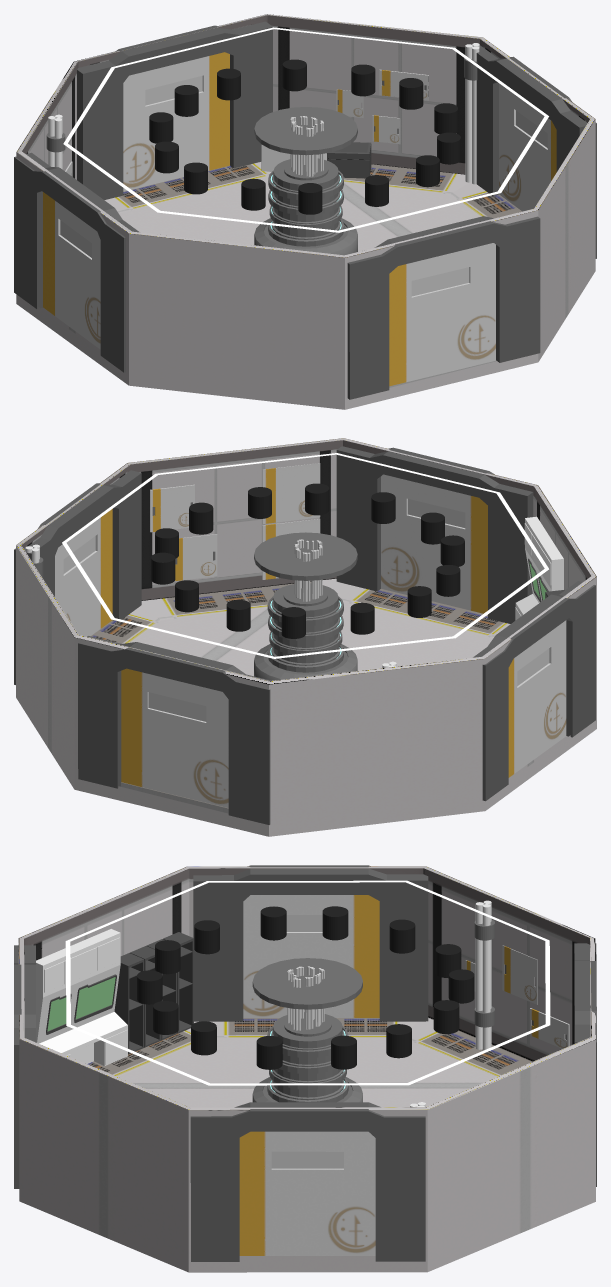
File: Sleepchambers.glb
3 renders of one model, top to bottom at view 1: azimuth 30°, elevation 25°; view 2: azimuth 150°, elevation 25°; view 3: azimuth 270°, elevation 25°, orthographic. The views are drawn at different scales.
Visible parts, largest first — view 1: Walls -col, Floor -col, door2, door3, InnerDoor.001, Cylinder.043, Cylinder.001, door4, InnerDoor.003, InnerDoor.002, door, InnerDoor (+8 smaller); view 2: Walls -col, Floor -col, door3, door2, InnerDoor.003, Cylinder.043, door4, Cylinder.001, InnerDoor.001, door, InnerDoor.002, InnerDoor (+6 smaller); view 3: Walls -col, door, Floor -col, InnerDoor, door4, Cylinder.043, InnerDoor.002, Cylinder.001, Cube.019, LightBar, door2, door3 (+10 smaller).
Part boxes in pixels (bbox=[...]): Walls -col: bbox=[16, 14, 595, 409]; Floor -col: bbox=[40, 162, 521, 387]; door2: bbox=[347, 216, 540, 399]; door3: bbox=[77, 21, 272, 199]; InnerDoor.001: bbox=[389, 243, 495, 386]; Cylinder.043: bbox=[149, 59, 460, 214]; Cylinder.001: bbox=[254, 107, 357, 255]; door4: bbox=[14, 152, 139, 372]; InnerDoor.003: bbox=[123, 52, 229, 191]; InnerDoor.002: bbox=[43, 192, 100, 349]; door: bbox=[476, 45, 596, 258]; InnerDoor: bbox=[499, 83, 556, 211]; Walls -col: bbox=[16, 438, 596, 836]; Floor -col: bbox=[91, 578, 568, 813]; door3: bbox=[78, 636, 271, 824]; door2: bbox=[336, 446, 533, 623]; InnerDoor.003: bbox=[121, 668, 228, 807]; Cylinder.043: bbox=[151, 483, 464, 638]; door4: bbox=[473, 581, 595, 801]; Cylinder.001: bbox=[254, 532, 357, 680]; InnerDoor.001: bbox=[381, 474, 487, 613]; door: bbox=[14, 470, 141, 684]; InnerDoor.002: bbox=[508, 620, 566, 777]; InnerDoor: bbox=[55, 509, 112, 636]; Walls -col: bbox=[18, 866, 595, 1272]; door: bbox=[190, 1102, 425, 1261]; Floor -col: bbox=[87, 1017, 532, 1107]; InnerDoor: bbox=[239, 1131, 375, 1255]; door4: bbox=[193, 865, 428, 1021]; Cylinder.043: bbox=[137, 906, 474, 1069]; InnerDoor.002: bbox=[243, 895, 379, 1017]; Cylinder.001: bbox=[252, 958, 362, 1102]; Cube.019: bbox=[36, 929, 127, 1065]; LightBar: bbox=[65, 880, 550, 1085]; door2: bbox=[14, 945, 35, 1188]; door3: bbox=[574, 943, 596, 1186].
Size of the model in its own units: 9.9 by 3.35 by 9.92.
Materials: 15 (4 with a texture image).
